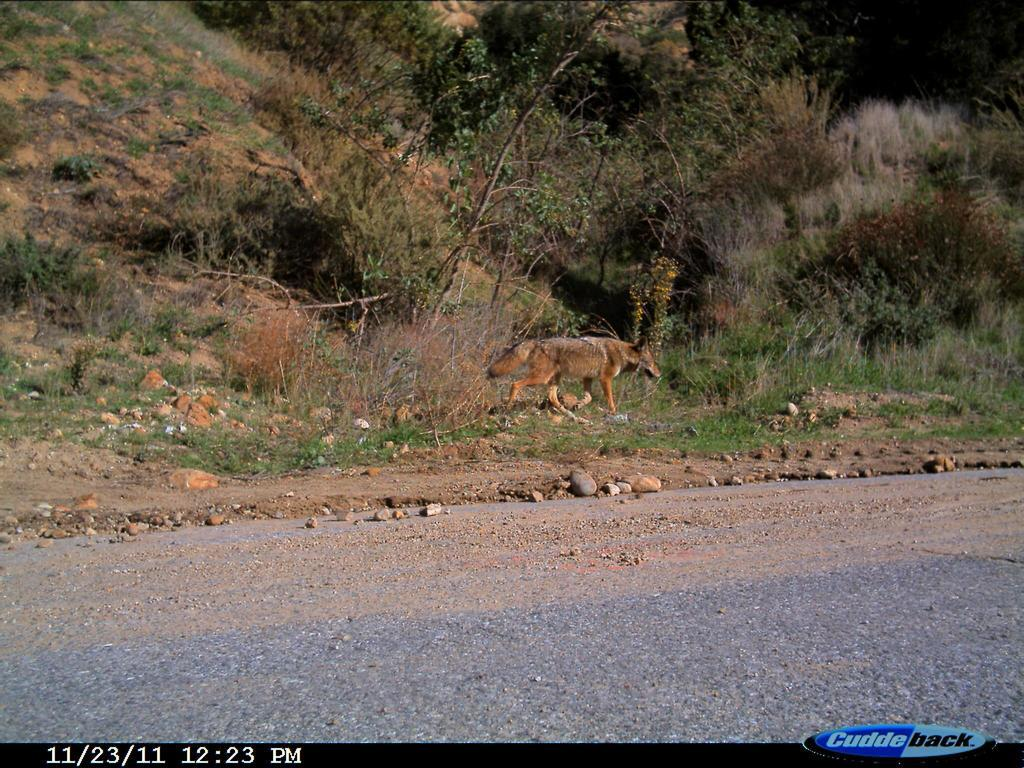coyote: (472, 317, 675, 423)
